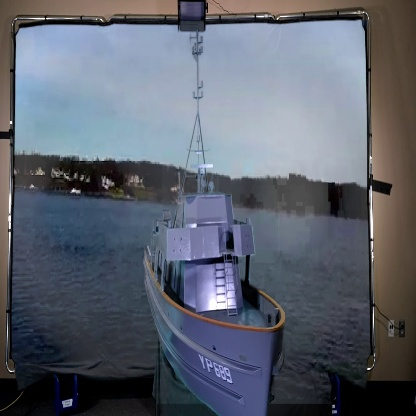YP689: (142, 34, 286, 416)
